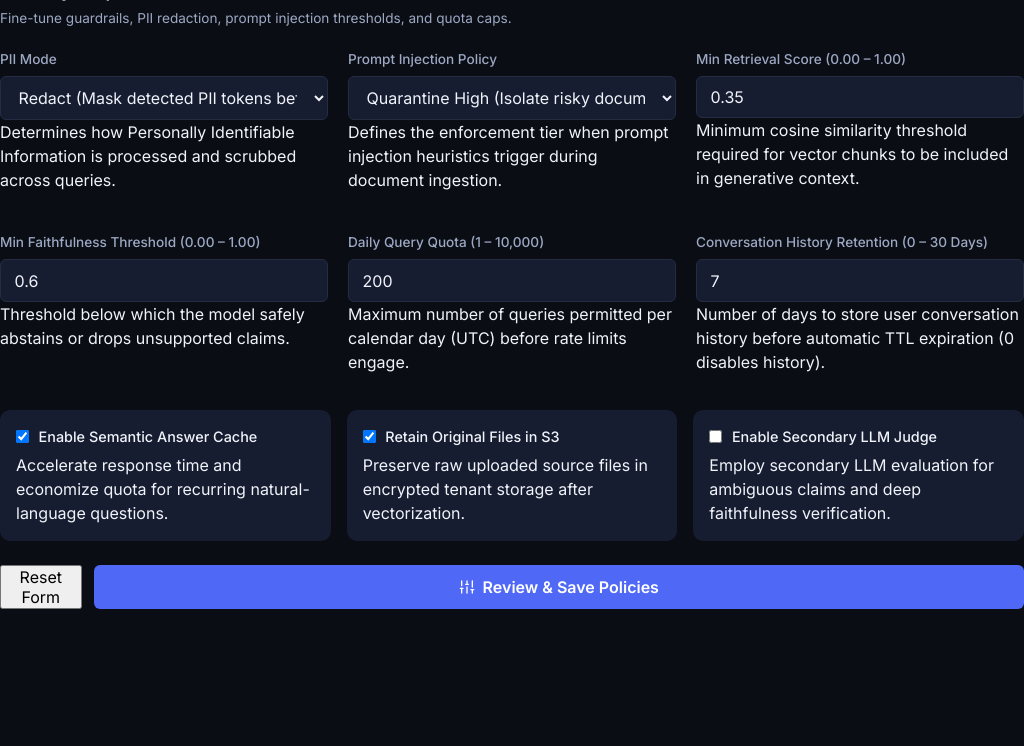
it: PoliciesTab Component › displays server validation error if API rejects patch
The image size is (1024, 746).
Check: the number field with test id "input-daily-quota" is shown, box [348, 259, 676, 302]
Click the button with test id "btn-save-policies" at point(559, 587), box [94, 565, 1023, 609]
(page scrolled)
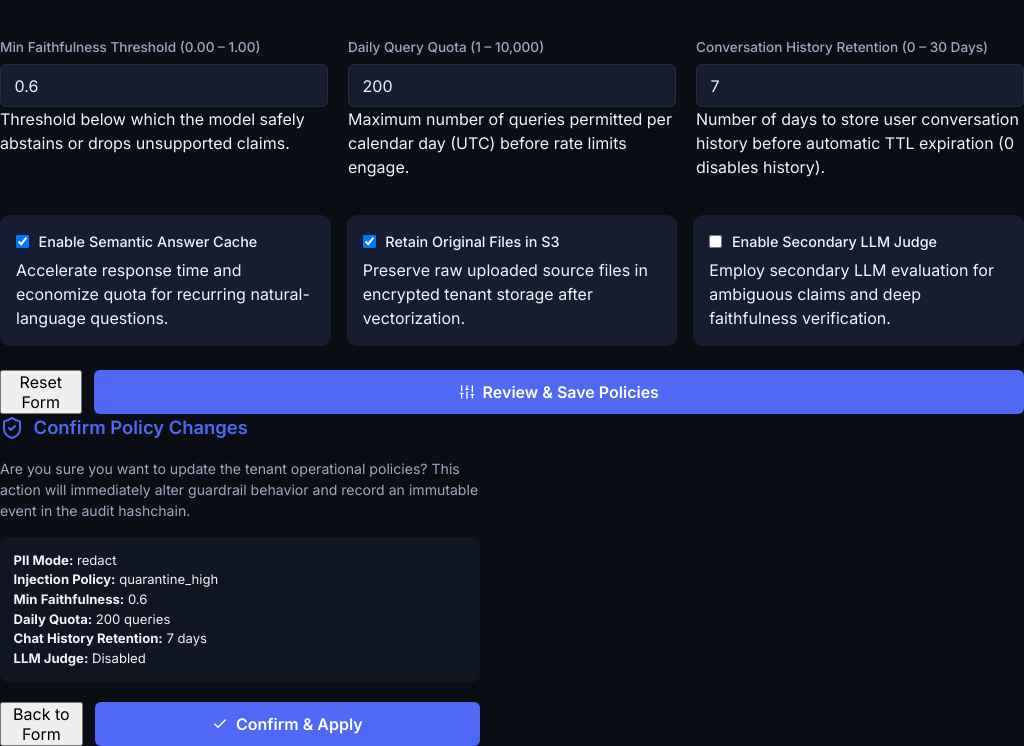
Check: the element with test id "policies-confirm-modal" is shown, box [0, 416, 480, 745]
Click the button with test id "btn-confirm-save-policies" at point(287, 724), box [95, 702, 480, 745]
(page scrolled)
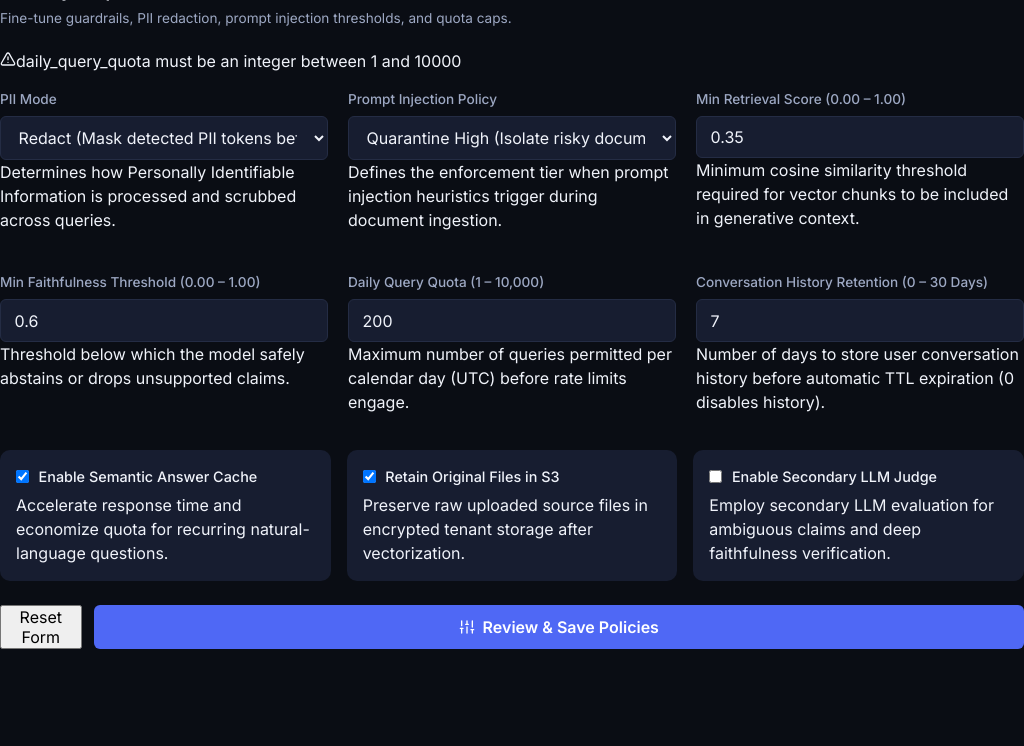
Check: the element with test id "policies-server-error" reads "daily_query_quota must be an integer between 1 and 10000", box [16, 51, 461, 71]
